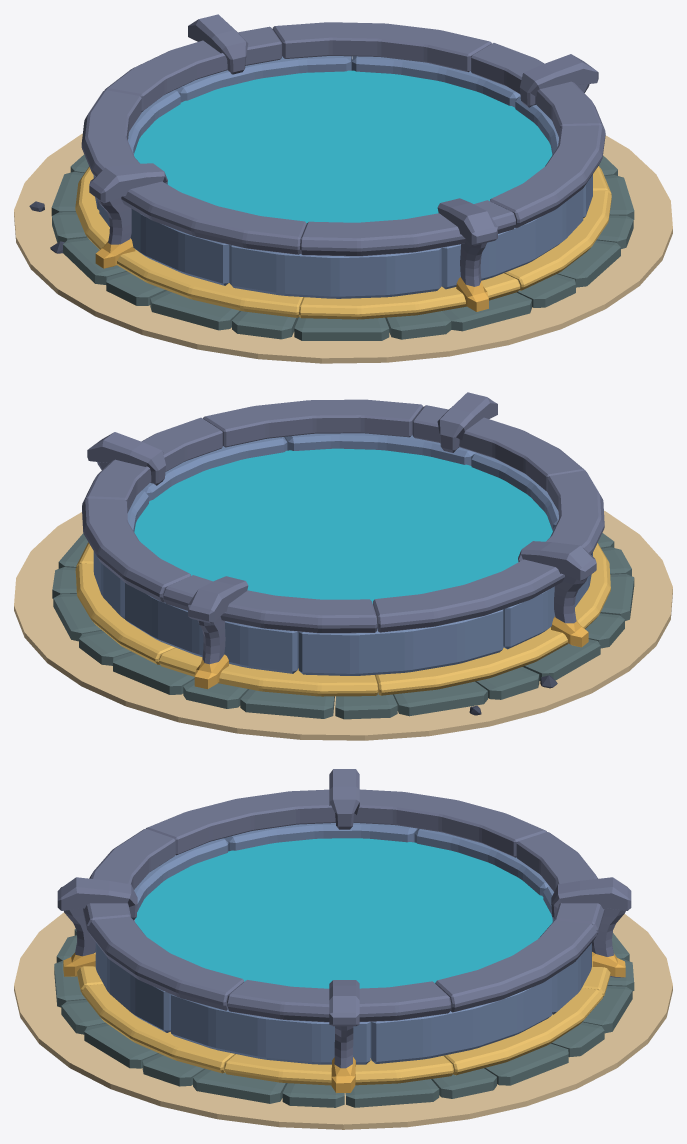
The model's file is well_1.fbx.
3 views of the same model, one above another, from view 1: azimuth 30°, elevation 25°; view 2: azimuth 150°, elevation 25°; view 3: azimuth 270°, elevation 25° (orthographic).
Parts seen in each view (by area): view 1: Cylinder.001, Cube.001, Cube, Cylinder, Cube.004, Cube.002, Cube.008, Cube.005, Cube.007, Cube.006; view 2: Cylinder.001, Cube.001, Cube, Cylinder, Cube.004, Cube.002, Cube.008, Cube.006, Cube.007, Cube.005; view 3: Cylinder.001, Cube.001, Cube, Cylinder, Cube.004, Cube.002, Cube.006, Cube.005, Cube.007, Cube.008.
Part boxes in pixels (box(x1,y1,x2,y2)): Cylinder.001: box(134, 70, 552, 223); Cube.001: box(81, 22, 605, 256); Cube: box(93, 56, 592, 298); Cylinder: box(14, 133, 672, 363); Cube.004: box(51, 154, 634, 340); Cube.002: box(75, 166, 611, 319); Cube.008: box(89, 163, 167, 268); Cube.005: box(437, 198, 497, 311); Cube.007: box(519, 54, 598, 107); Cube.006: box(188, 14, 248, 74); Cylinder.001: box(134, 448, 552, 603); Cube.001: box(82, 399, 604, 633); Cube: box(93, 433, 592, 675); Cylinder: box(14, 510, 672, 740); Cube.004: box(52, 533, 634, 719); Cube.002: box(75, 542, 610, 696); Cube.008: box(518, 541, 596, 647); Cube.006: box(188, 576, 248, 689); Cube.007: box(87, 432, 165, 485); Cube.005: box(437, 392, 497, 452); Cylinder.001: box(135, 838, 552, 988); Cube.001: box(83, 789, 604, 1022); Cube: box(95, 823, 591, 1064); Cylinder: box(14, 912, 672, 1129); Cube.004: box(54, 929, 634, 1107); Cube.002: box(77, 961, 610, 1085); Cube.006: box(551, 877, 631, 977); Cube.005: box(57, 877, 137, 976); Cube.007: box(329, 980, 359, 1093); Cube.008: box(329, 769, 359, 829).
Size of the model in its own units: 2559 by 477 by 2559.
